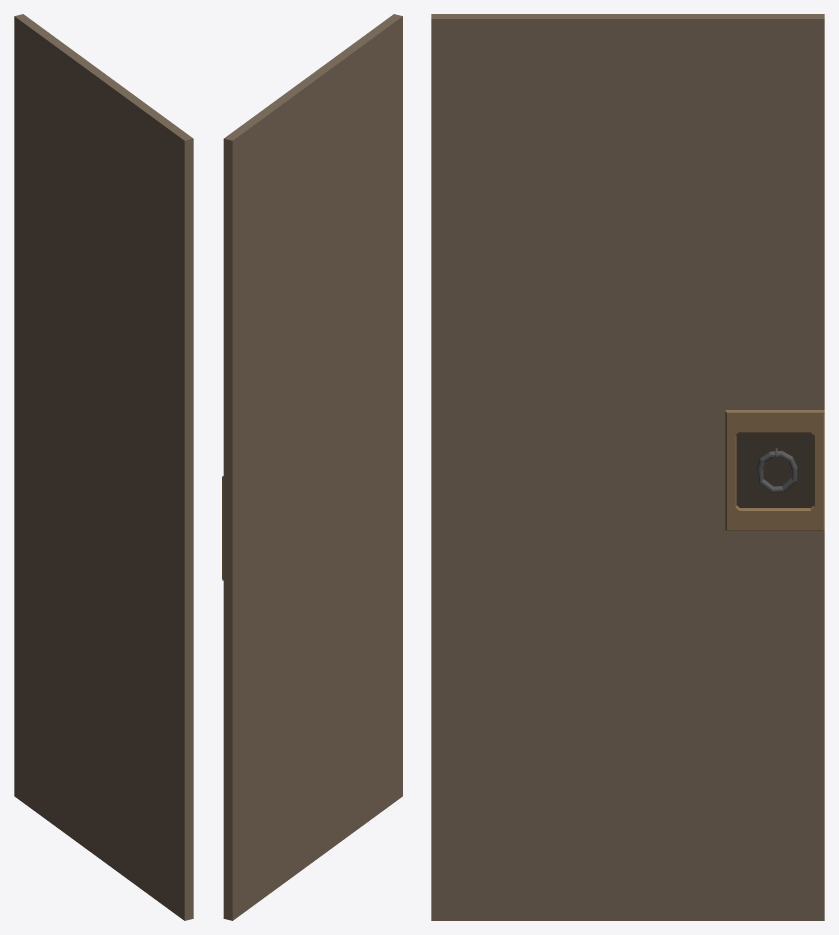
File: Door_Left.fbx
3 views of the same model, side by side, from view 1: azimuth 30°, elevation 25°; view 2: azimuth 150°, elevation 25°; view 3: azimuth 270°, elevation 25° (orthographic). The views are drawn at different scales.
Parts seen in each view (by area): view 1: polySurface10; view 2: polySurface10; view 3: polySurface10.
Part boxes in pixels (x1,y1,x2,y2): polySurface10: (14,14,193,920); polySurface10: (222,14,402,920); polySurface10: (431,14,824,920).
Bounding box in the file's own units: 11.11 × 500 × 198.
